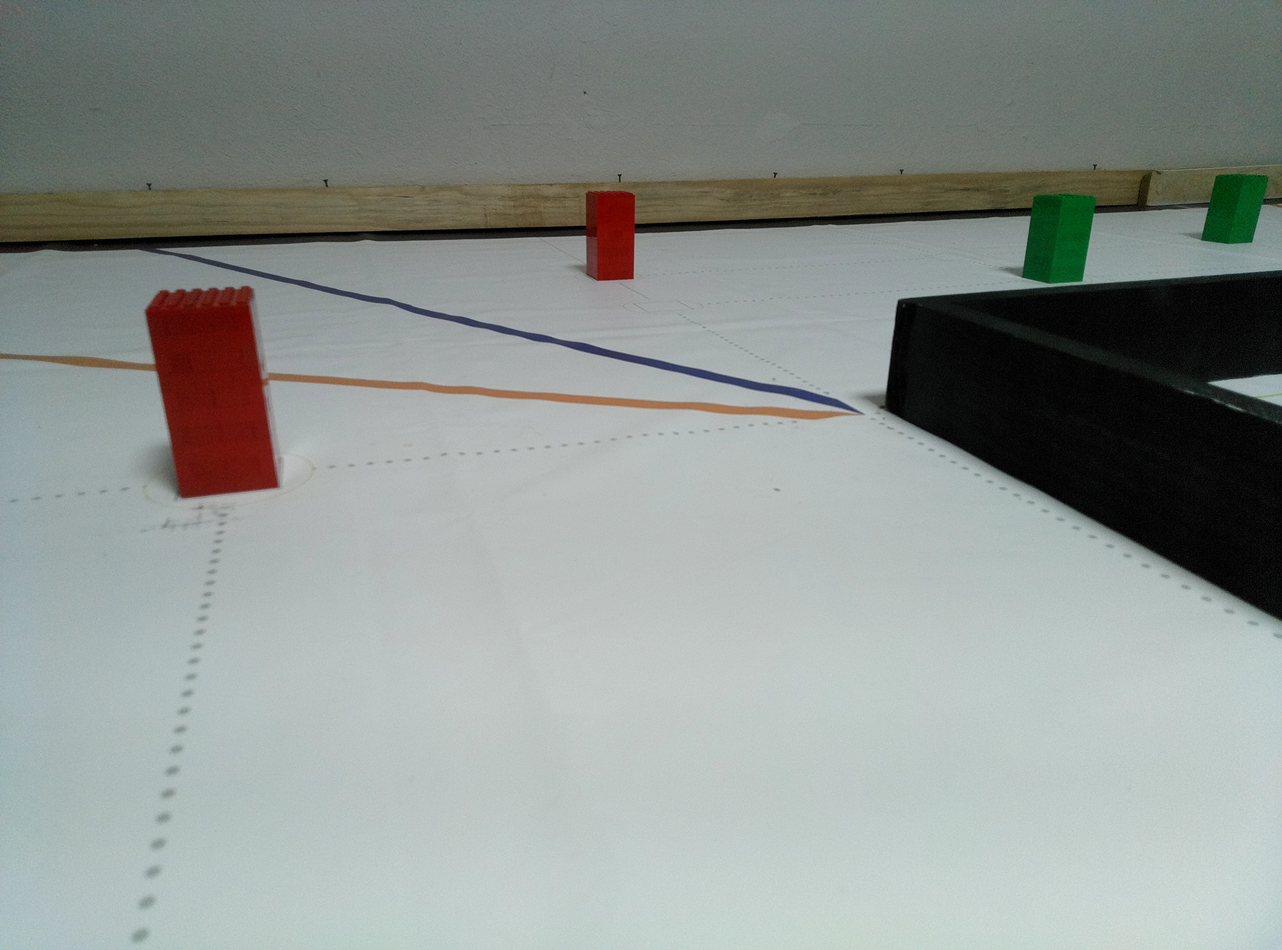greenbox: (1021, 194, 1096, 284), (1200, 174, 1270, 244)
redbox: (141, 287, 281, 499), (584, 189, 635, 281)
